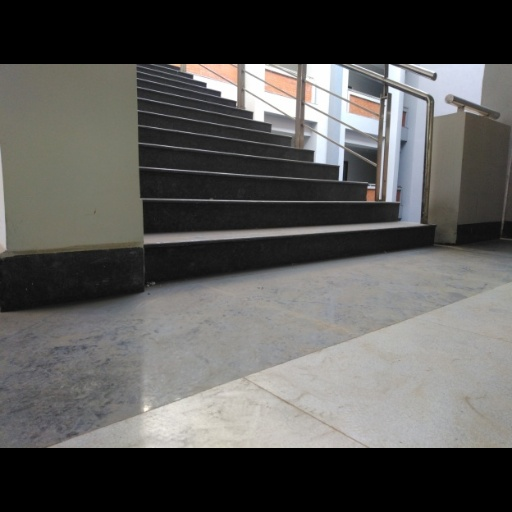Stairs: (138, 66, 435, 279)
